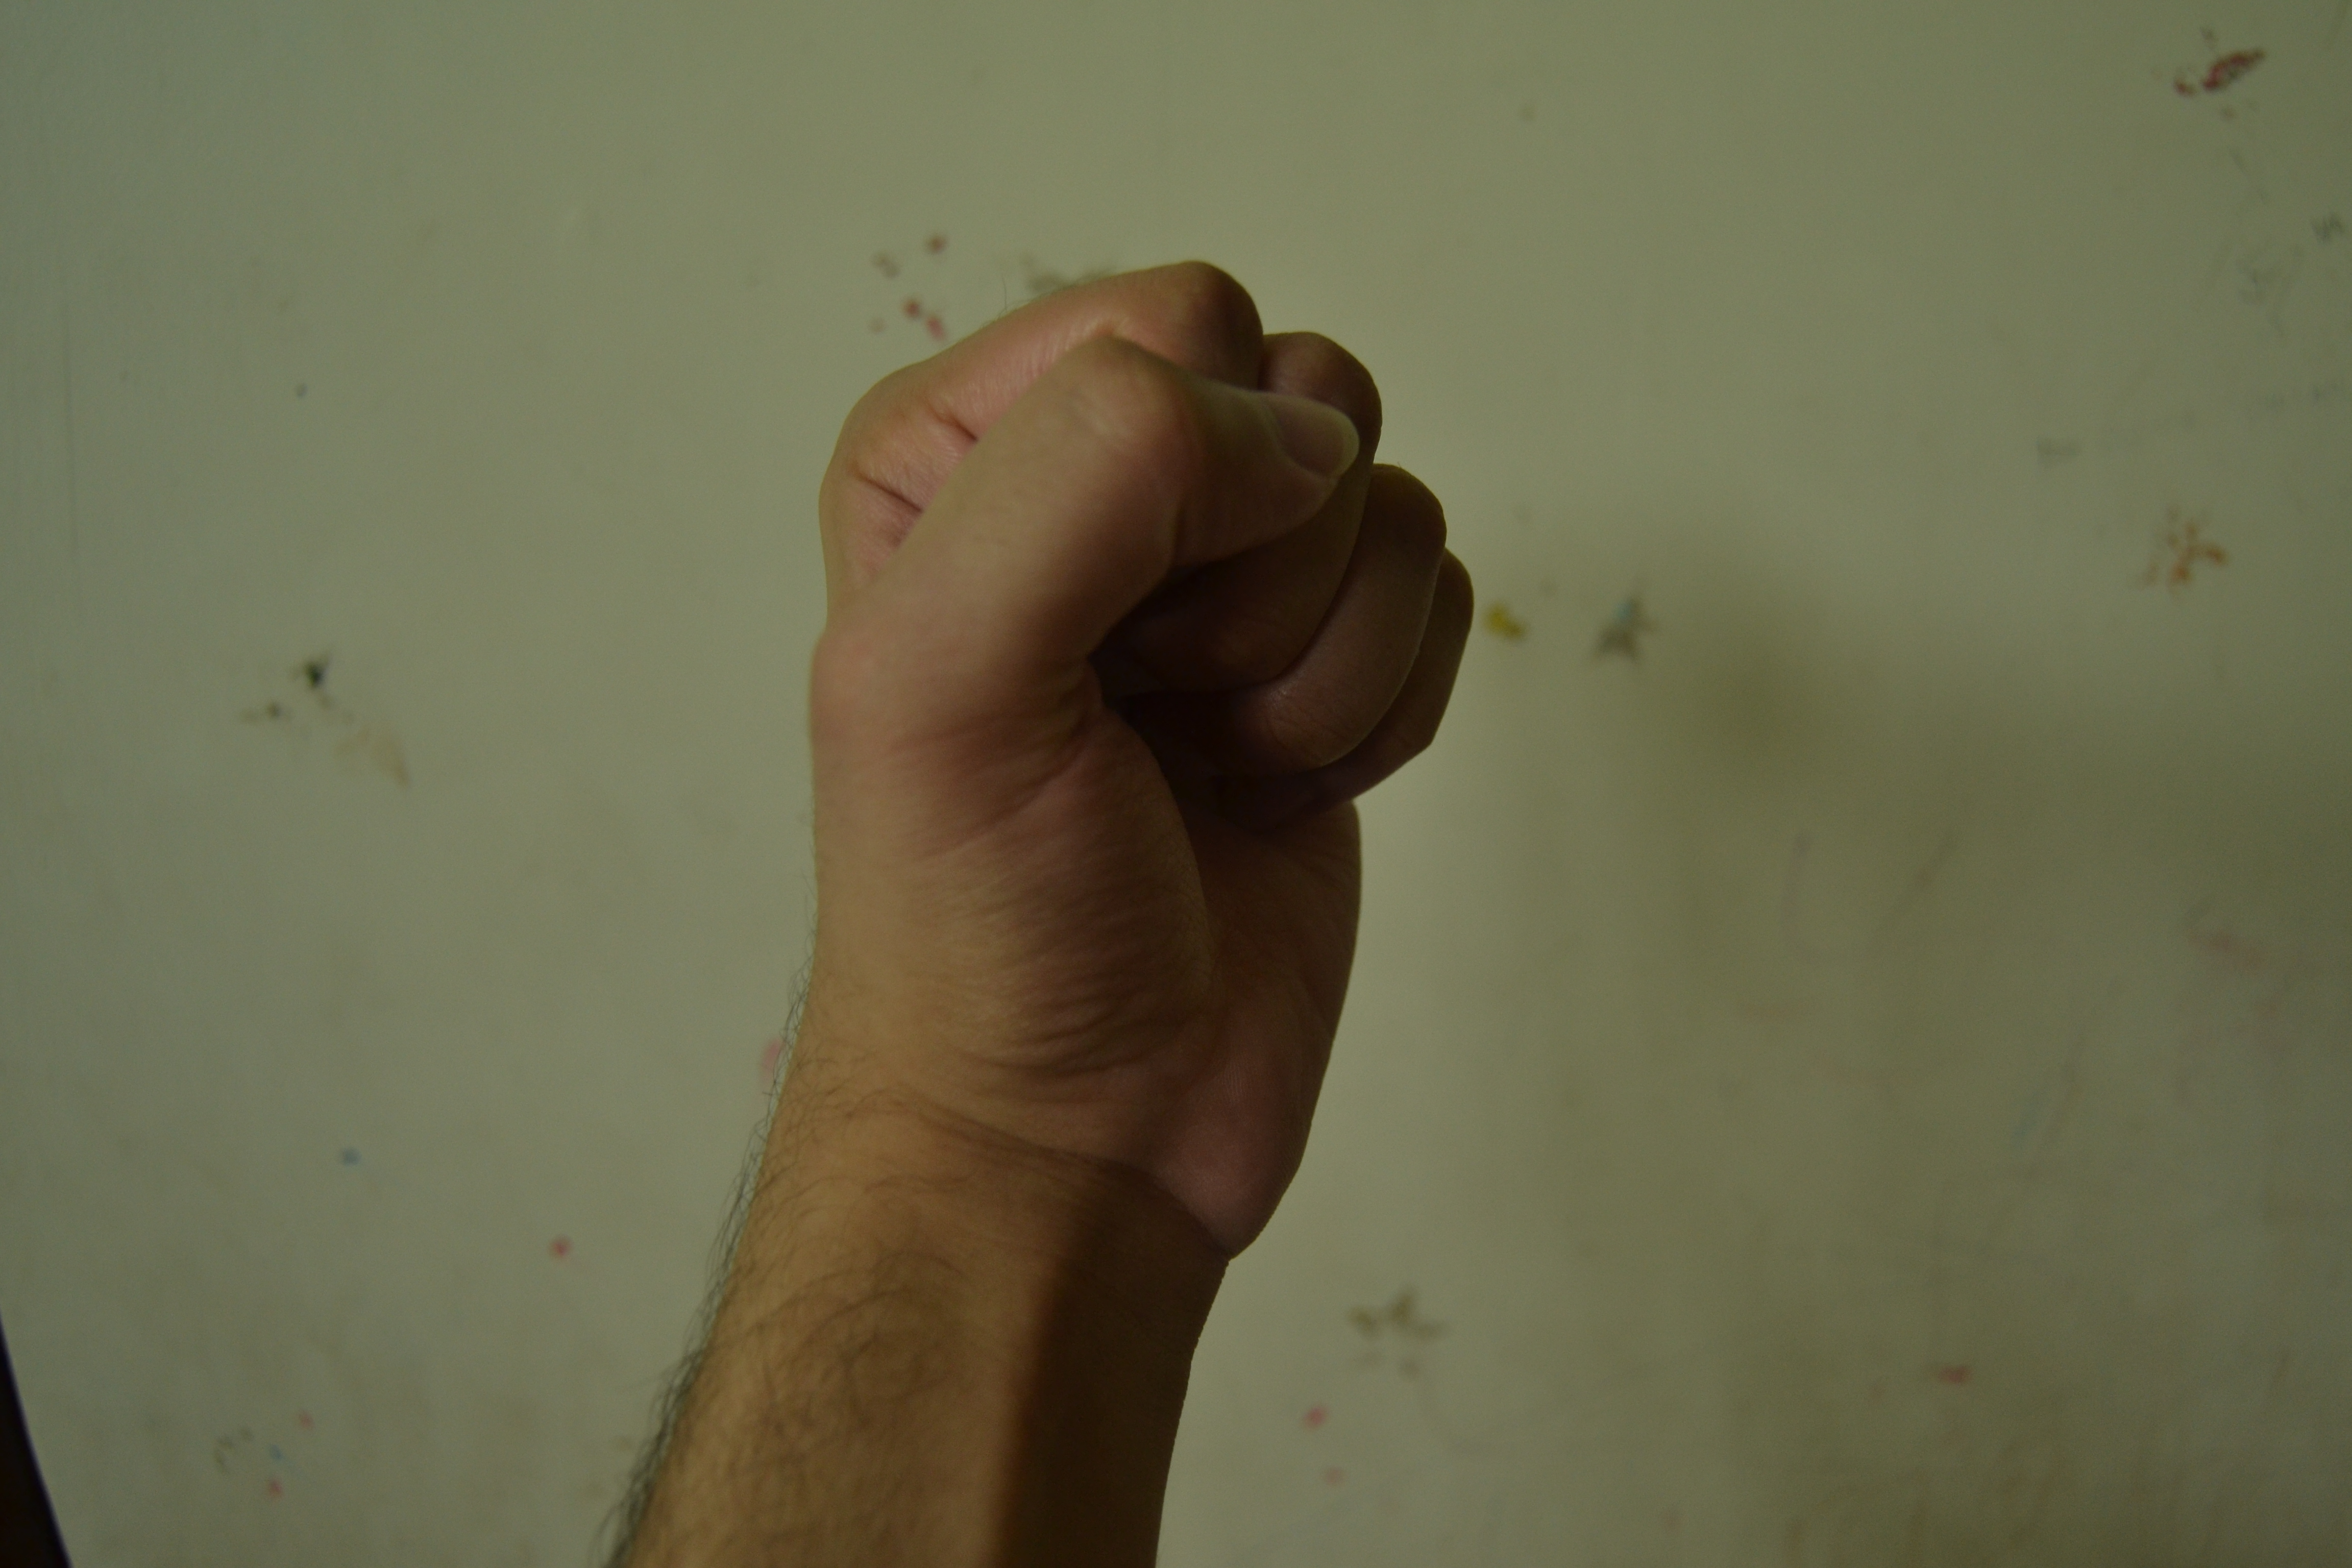click: (705, 264, 1514, 1347)
